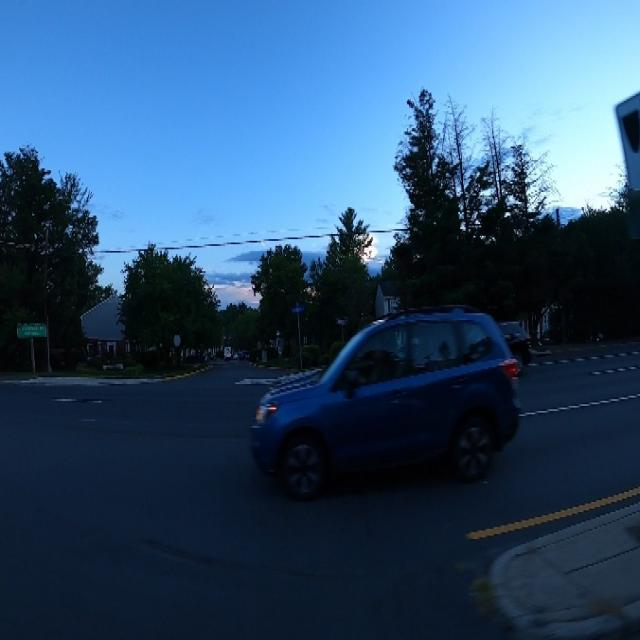car: (248, 296, 531, 519)
